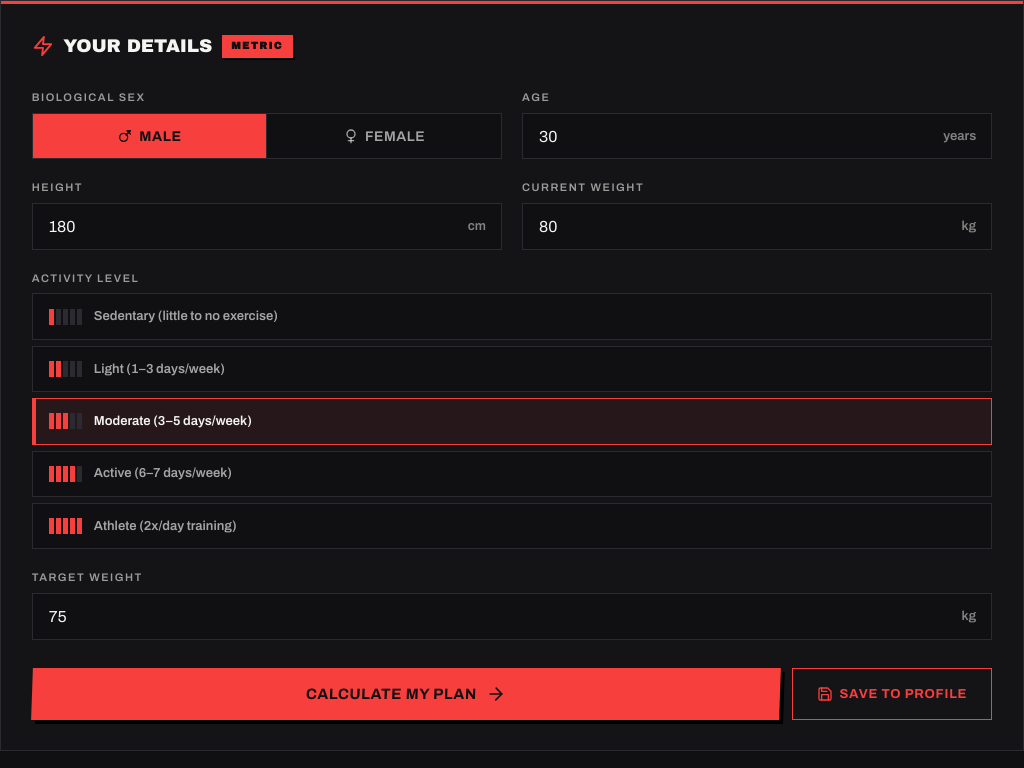
it: UserForm › auth integration › shows "Saved!" after successful save
Click the button "Save to Profile" at [892, 694], box left=792, top=668, right=992, bottom=720
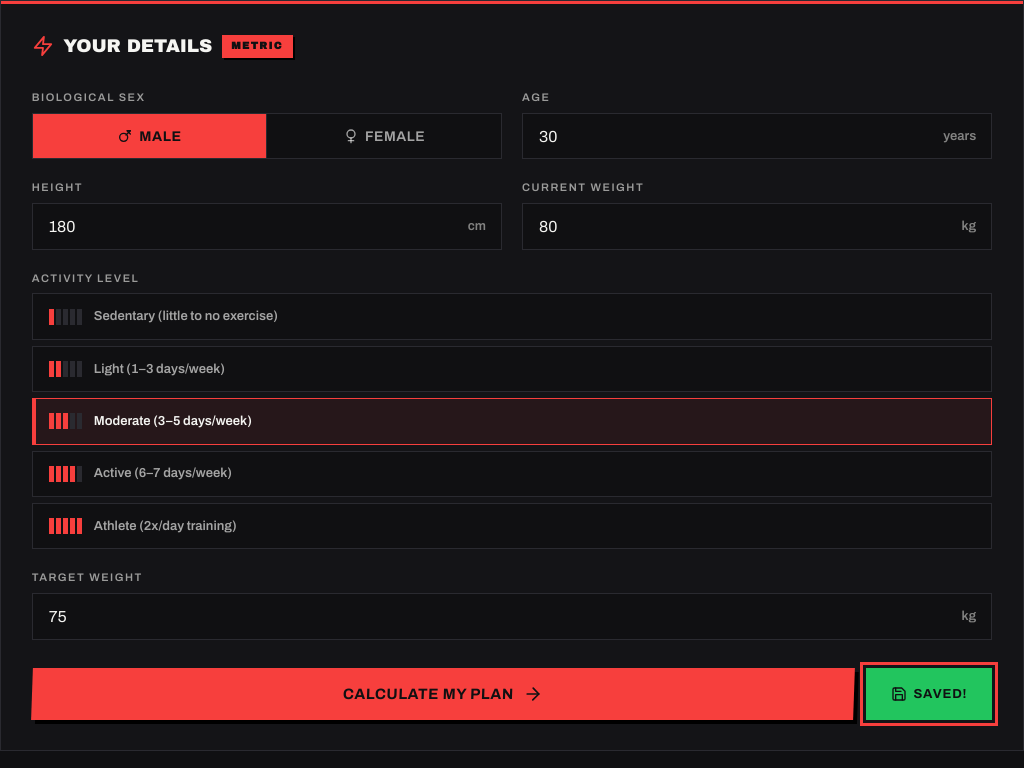
Now the text "Saved!" is shown, box left=913, top=687, right=967, bottom=701
